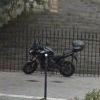Motorcycle: (19, 36, 90, 84)
